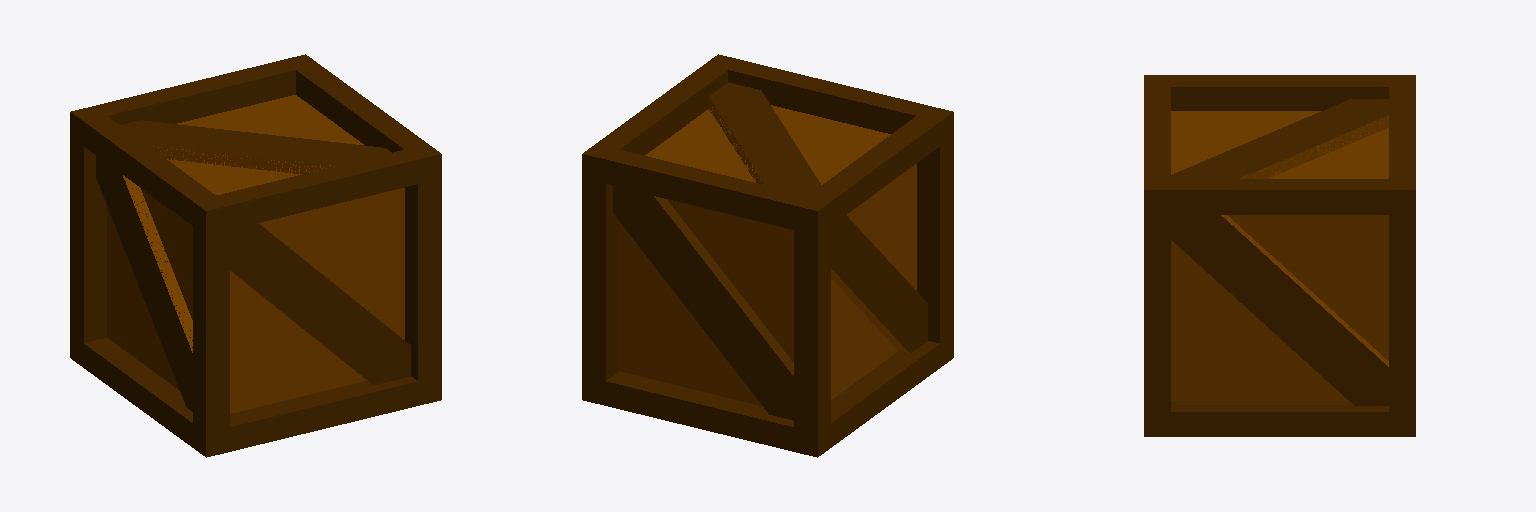
3 views of the same model, side by side, from view 1: azimuth 30°, elevation 25°; view 2: azimuth 150°, elevation 25°; view 3: azimuth 270°, elevation 25° (orthographic).
Visible parts, largest first — view 1: cube; view 2: cube; view 3: cube.
Part boxes in pixels (x1,y1,x2,y2): cube: (70, 54, 441, 457); cube: (582, 54, 953, 457); cube: (1144, 75, 1415, 436).
Size of the model in its own units: 10 by 10 by 10.
Materials: 1 (1 with a texture image).